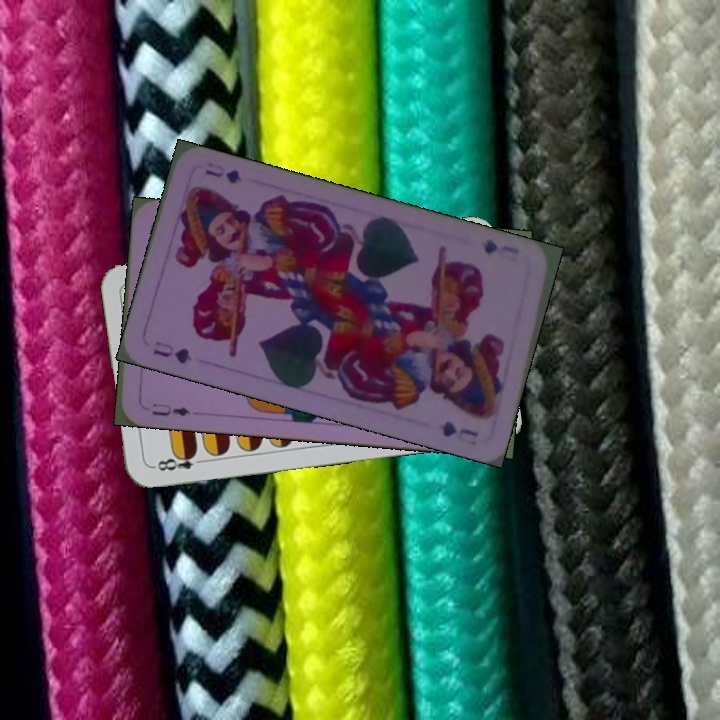E8: (149, 447, 208, 473)
EU: (148, 399, 193, 419)
GU: (149, 337, 195, 366), (477, 235, 522, 260)
